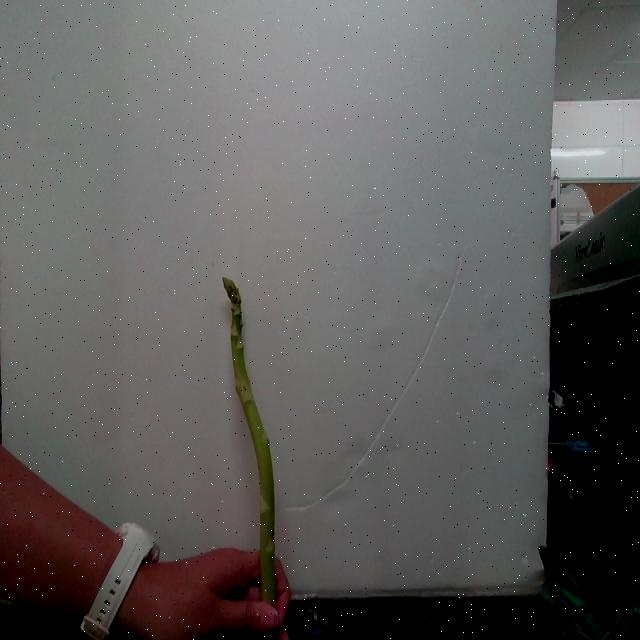aspargus: (220, 280, 279, 616)
